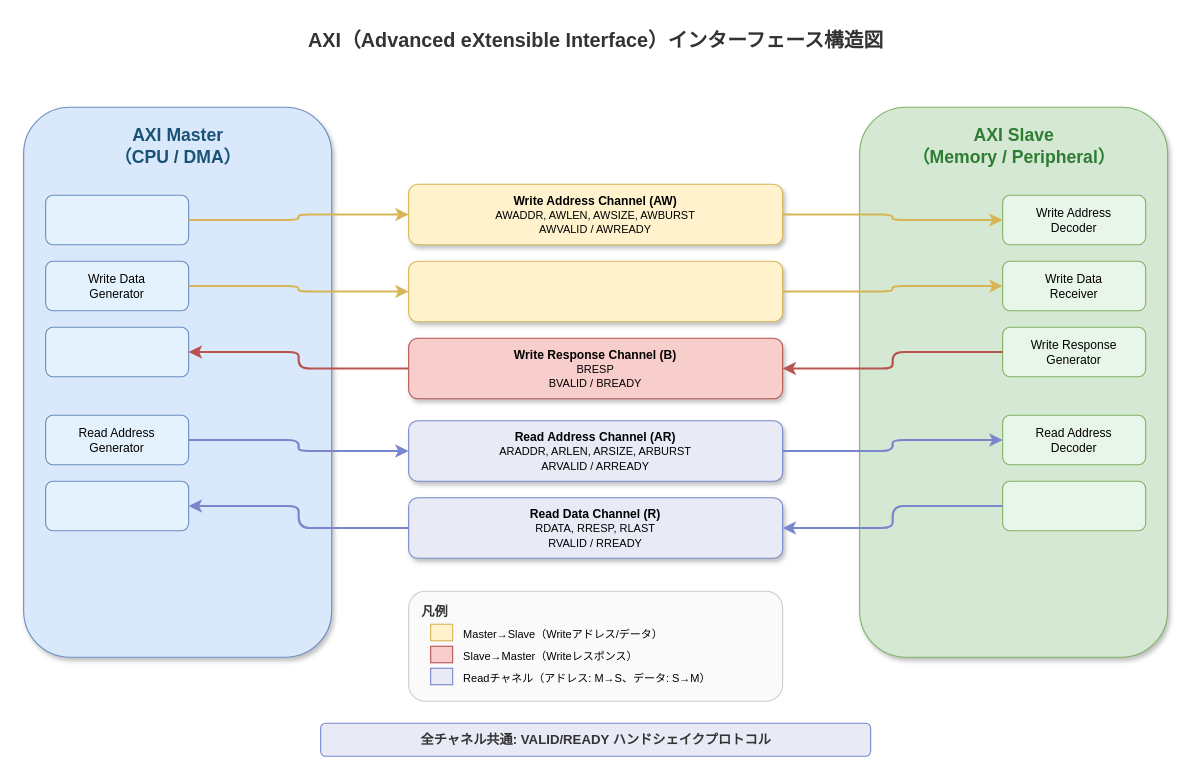
This 1194x776 diagram has some shape labels left out. The centre of each missing label's shape, as x and y in pixels:
Read Data Generator: the point at 1074,505
Read Data Handler: the point at 117,505
Write Address Generator: the point at 117,219
Write Data Channel (W) WDATA, WSTRB, WLAST WVALID / WREADY: the point at 596,292
Write Response Handler: the point at 117,351
